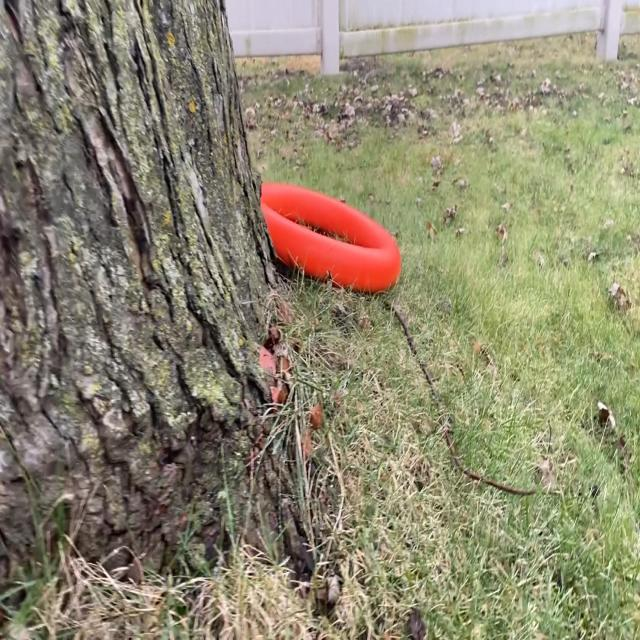note: (252, 178, 403, 309)
